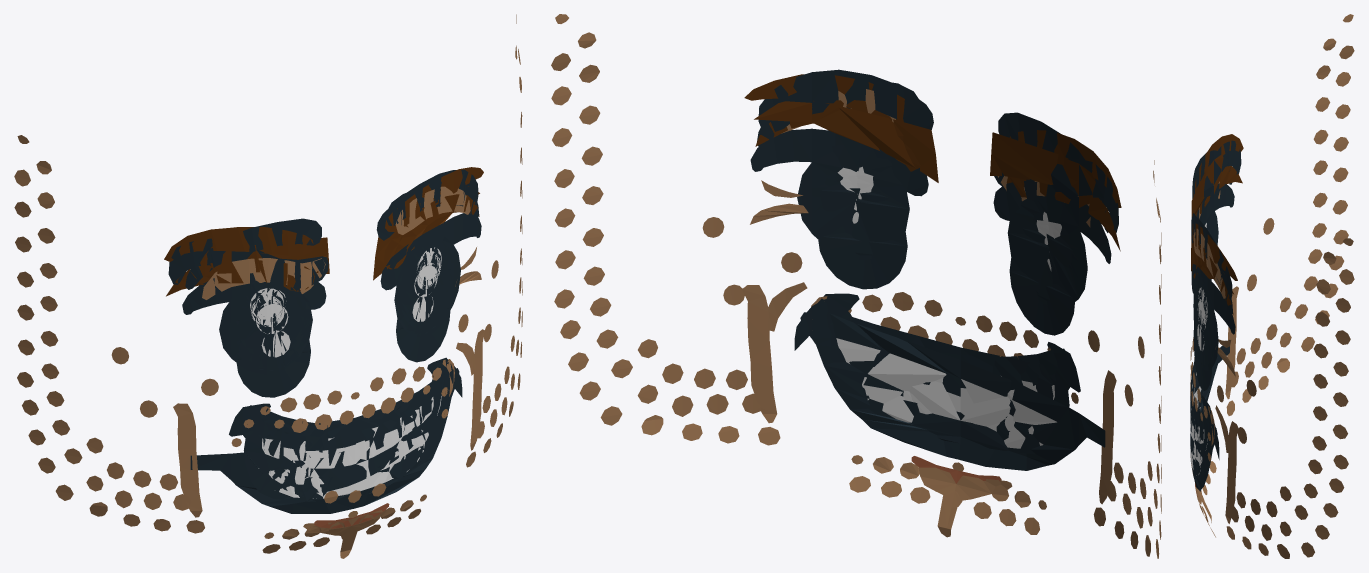
3 views of the same model, side by side, from view 1: azimuth 30°, elevation 25°; view 2: azimuth 150°, elevation 25°; view 3: azimuth 270°, elevation 25° (orthographic). The views are drawn at different scales.
Parts seen in each view (by area): view 1: ld_faceStubble, ld_faceSmirk, ld_faceBeam, ld_faceGrin, ld_faceCrooked, ld_faceFreckles, ld_faceLopsided; view 2: ld_faceCrooked, ld_faceStubble, ld_faceSmirk, ld_faceFreckles, ld_faceBeam, ld_faceGrin, ld_faceLopsided; view 3: ld_faceStubble, ld_faceSmirk, ld_faceCrooked, ld_faceFreckles, ld_faceBeam, ld_faceGrin, ld_faceLopsided.
Boxes of the visible parts, x1,y1,x2,y2 form: ld_faceStubble: (14,14,522,553); ld_faceSmirk: (173,213,484,558); ld_faceBeam: (185,181,478,528); ld_faceGrin: (164,167,483,492); ld_faceCrooked: (190,186,481,513); ld_faceFreckles: (111,186,498,452); ld_faceLopsided: (166,194,479,474); ld_faceCrooked: (750,101,1105,470); ld_faceStubble: (551,14,1161,558); ld_faceSmirk: (742,128,1116,537); ld_faceFreckles: (702,89,1144,406); ld_faceBeam: (757,79,1108,483); ld_faceGrin: (744,74,1121,425); ld_faceLopsided: (755,100,1120,417); ld_faceStubble: (1190,14,1354,558); ld_faceSmirk: (1191,183,1238,523); ld_faceCrooked: (1190,155,1235,491); ld_faceFreckles: (1191,181,1274,443); ld_faceBeam: (1190,150,1232,496); ld_faceGrin: (1190,134,1243,456); ld_faceLopsided: (1190,166,1242,445).
Size of the model in its own units: 1.11 by 0.8946 by 0.3341.
